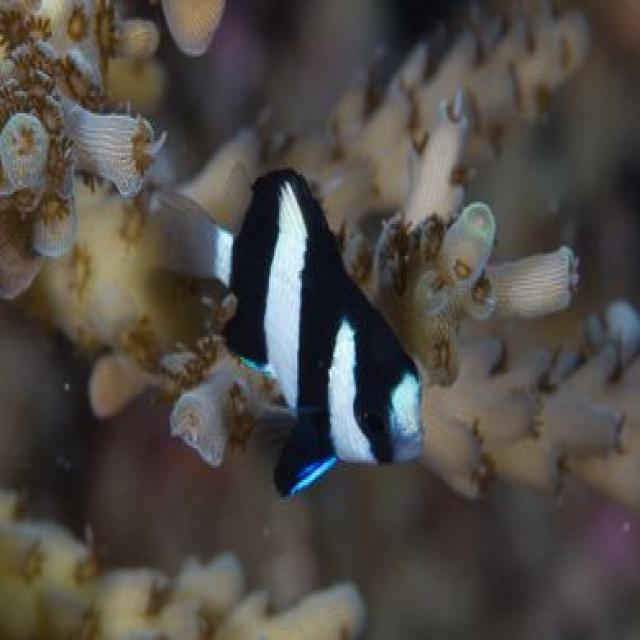ThreeStripedDamselfish: (148, 170, 423, 500)
